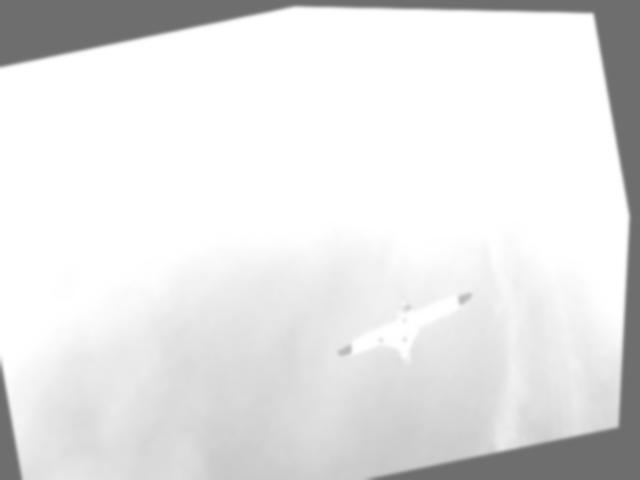hedef: (310, 270, 504, 392)
